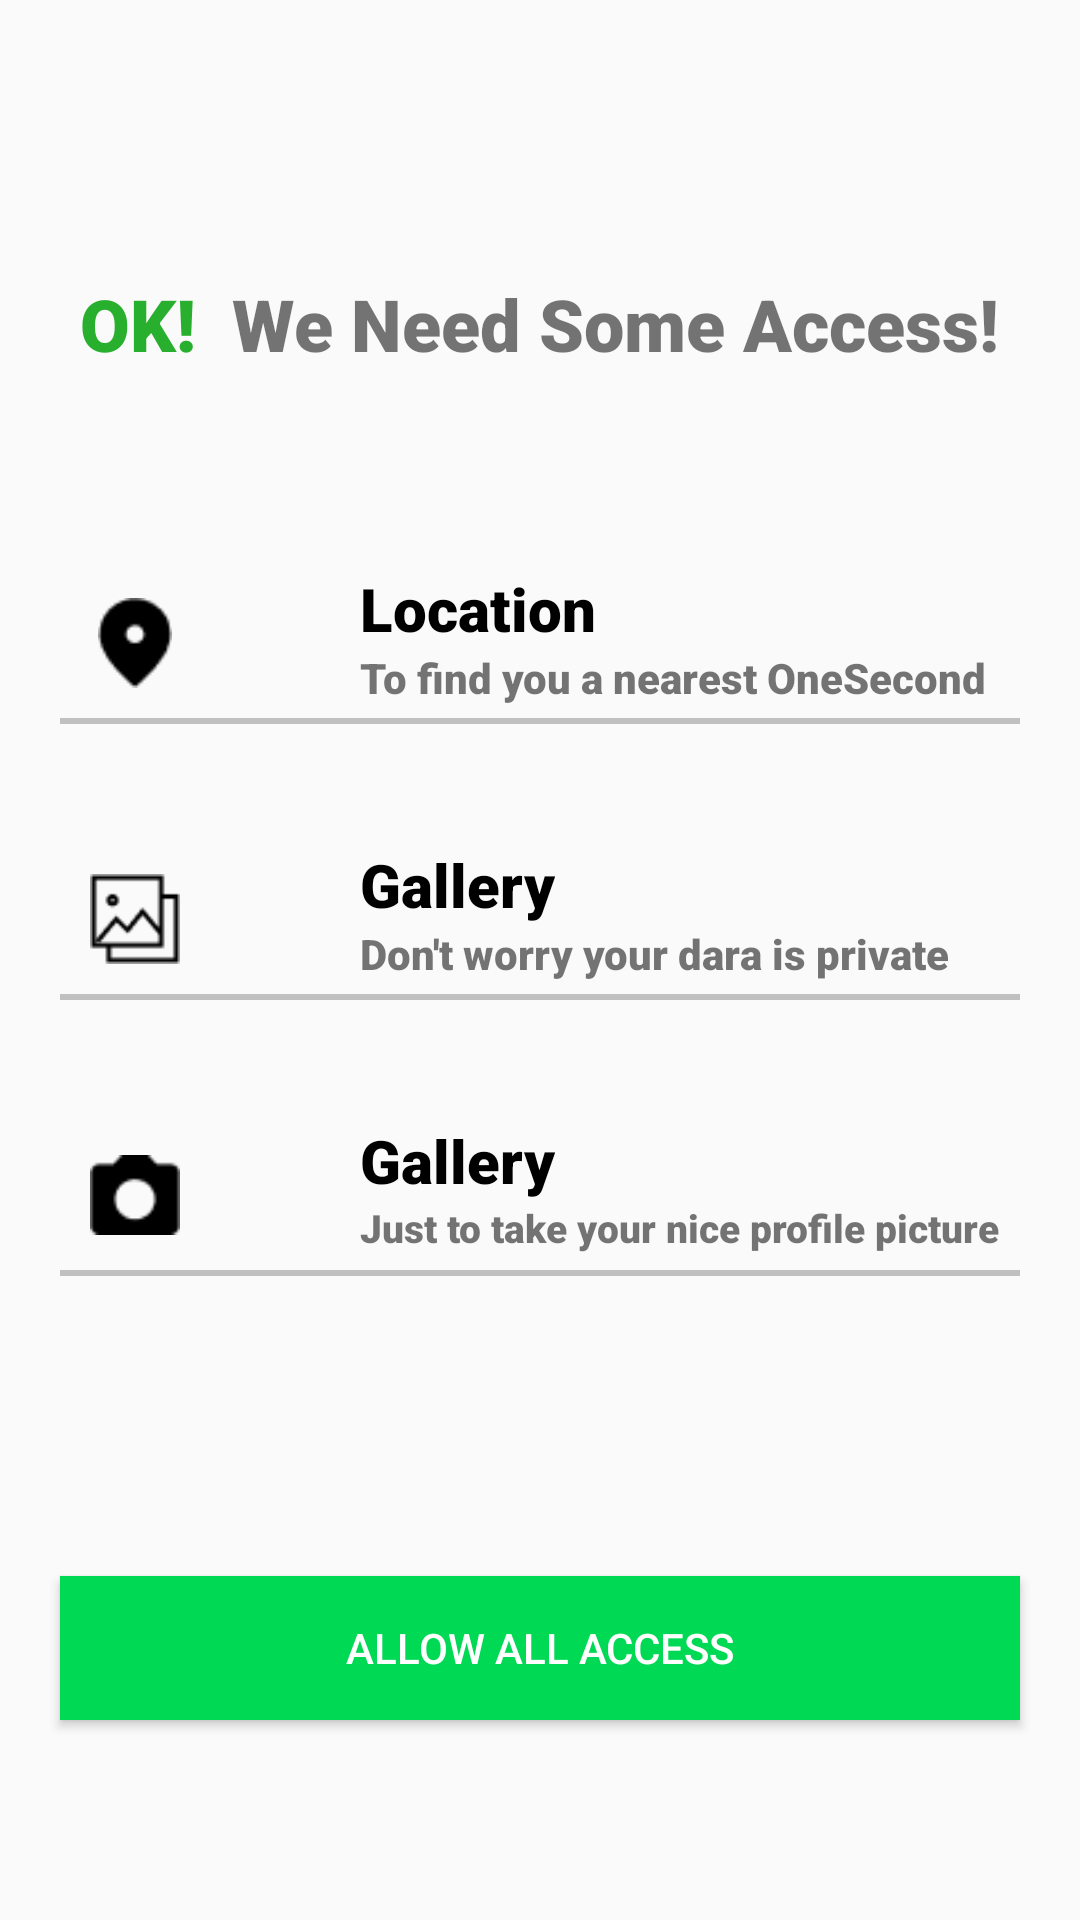

Point at icon controls on the screen. Image size 1080px x 1920px, points as (x=x, y=y).
camera: (x=135, y=1195)
gallery: (x=135, y=919)
location tag: (x=135, y=643)
